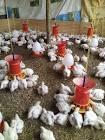chicken: (27, 101, 42, 120), (3, 121, 18, 140), (71, 106, 83, 128), (56, 101, 75, 114), (13, 112, 24, 133), (40, 125, 54, 140), (85, 107, 96, 126), (54, 93, 76, 102), (55, 113, 69, 127), (0, 75, 9, 91), (38, 82, 49, 95), (10, 75, 18, 91), (61, 83, 72, 94), (19, 77, 28, 89), (21, 69, 34, 75)
